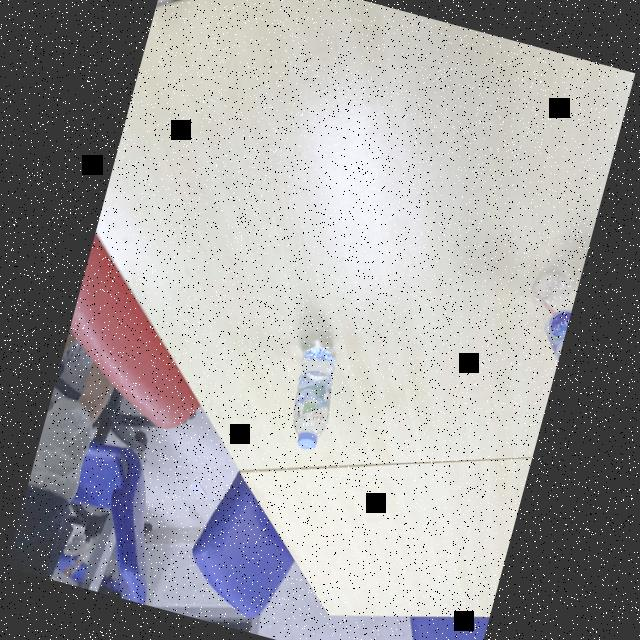plastic_bottle: (278, 336, 348, 454), (511, 267, 580, 376)
plastic_bottle_cap: (294, 431, 320, 454)
